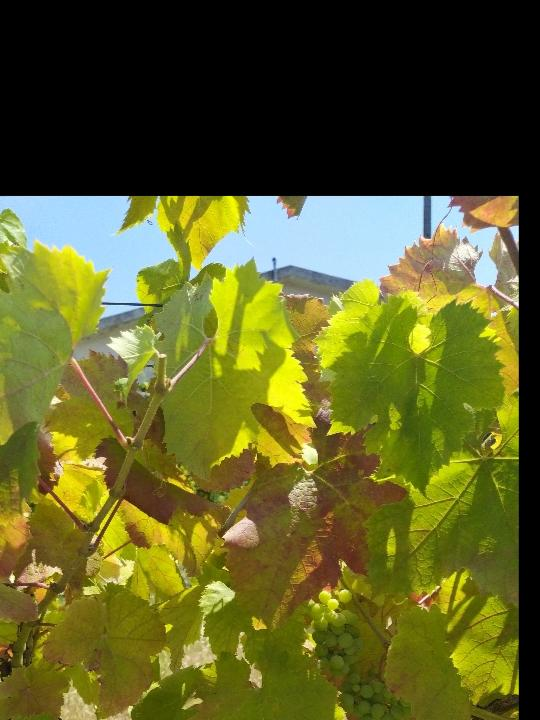grape: (306, 584, 409, 720)
